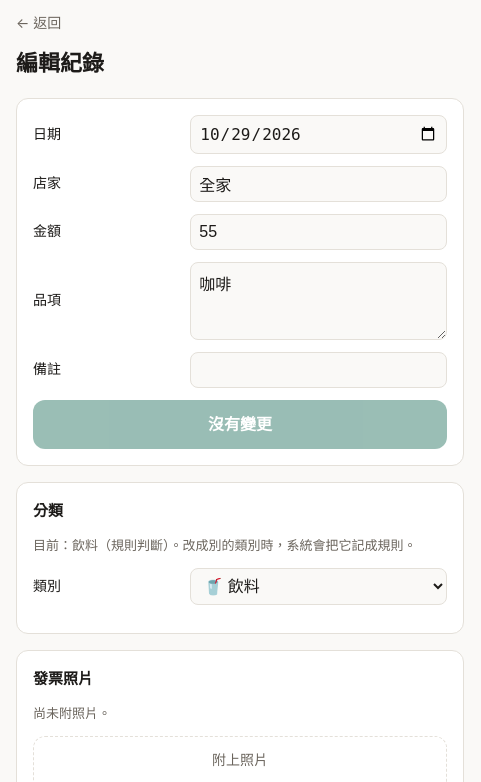
Test: 編輯紀錄：不能默默改壞資料 › #2 清空金額後按儲存，不會存成 $0，並說明原因
Clear the number field labelled "金額" at (319, 232), box [190,214,447,250]
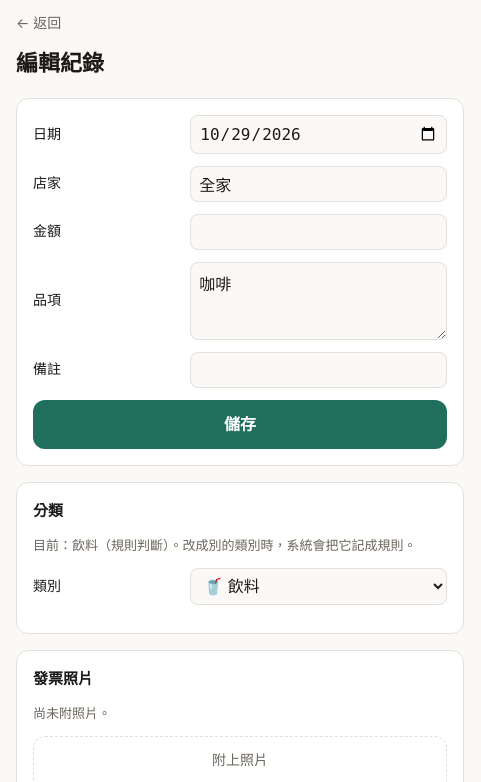
Click the button "儲存".
click(240, 424)  # box [33,400,447,449]
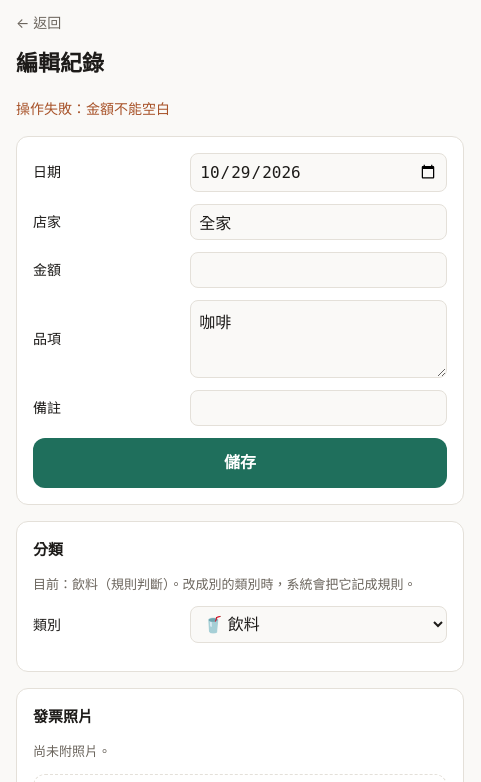
Now the text "金額不能空白" is shown, box [16,100,170,117]
